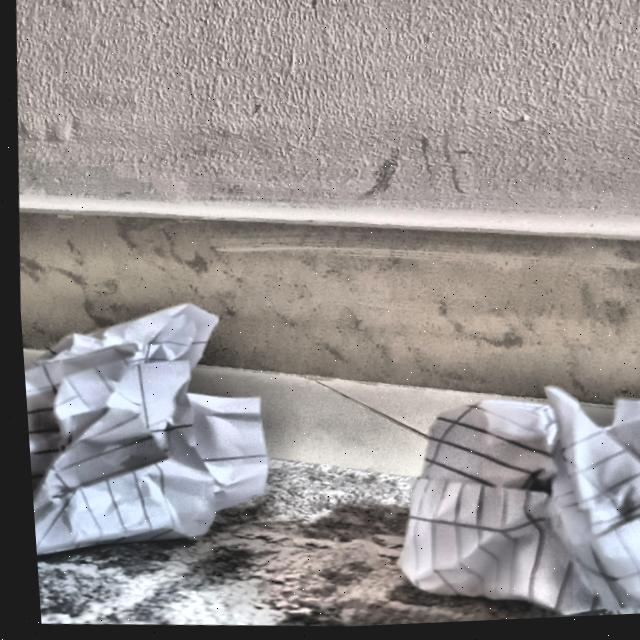paper: (16, 288, 274, 591), (370, 359, 640, 624)
